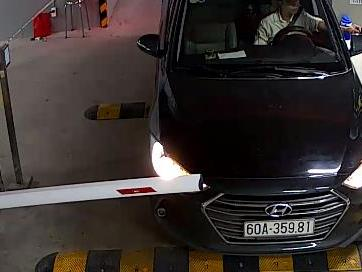number: (246, 219, 314, 237)
